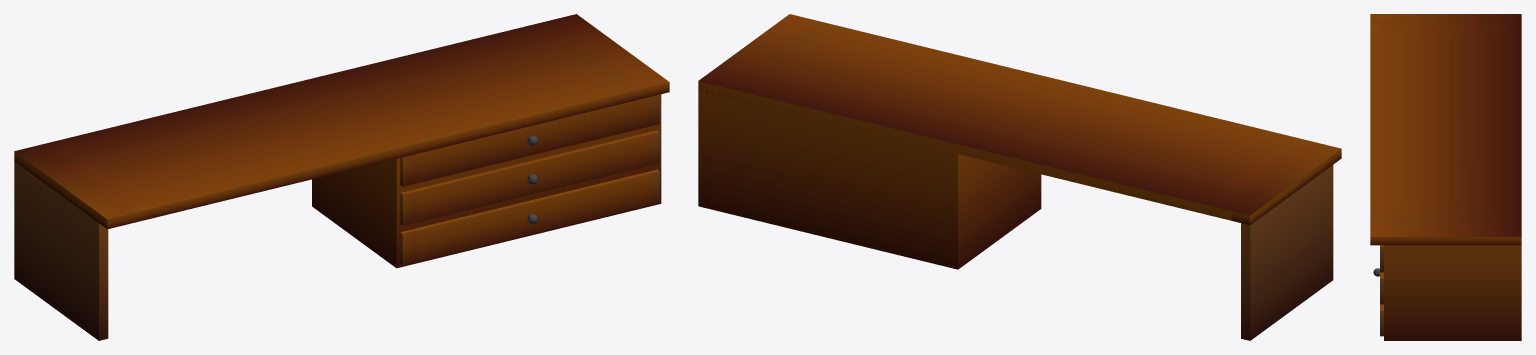
The model's file is Desktop.glb.
3 views of the same model, side by side, from view 1: azimuth 30°, elevation 25°; view 2: azimuth 150°, elevation 25°; view 3: azimuth 270°, elevation 25° (orthographic). The views are drawn at different scales.
Visible parts, largest first — view 1: Mesa; view 2: Mesa; view 3: Mesa.
Boxes of the visible parts, x1,y1,x2,y2 form: Mesa: (14,14,669,340); Mesa: (698,14,1341,340); Mesa: (1370,14,1521,340).
Bounding box in the file's own units: 118 × 25.59 × 33.83.
1 material, 1 textured.
